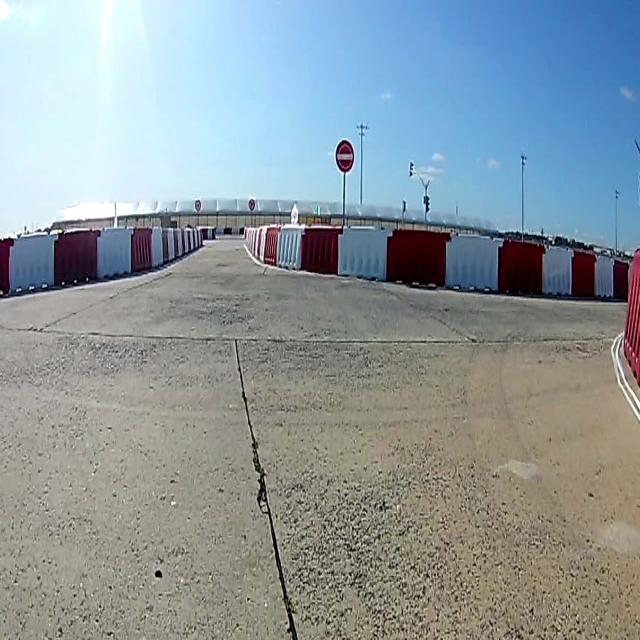girisyok: (337, 141, 353, 170)
